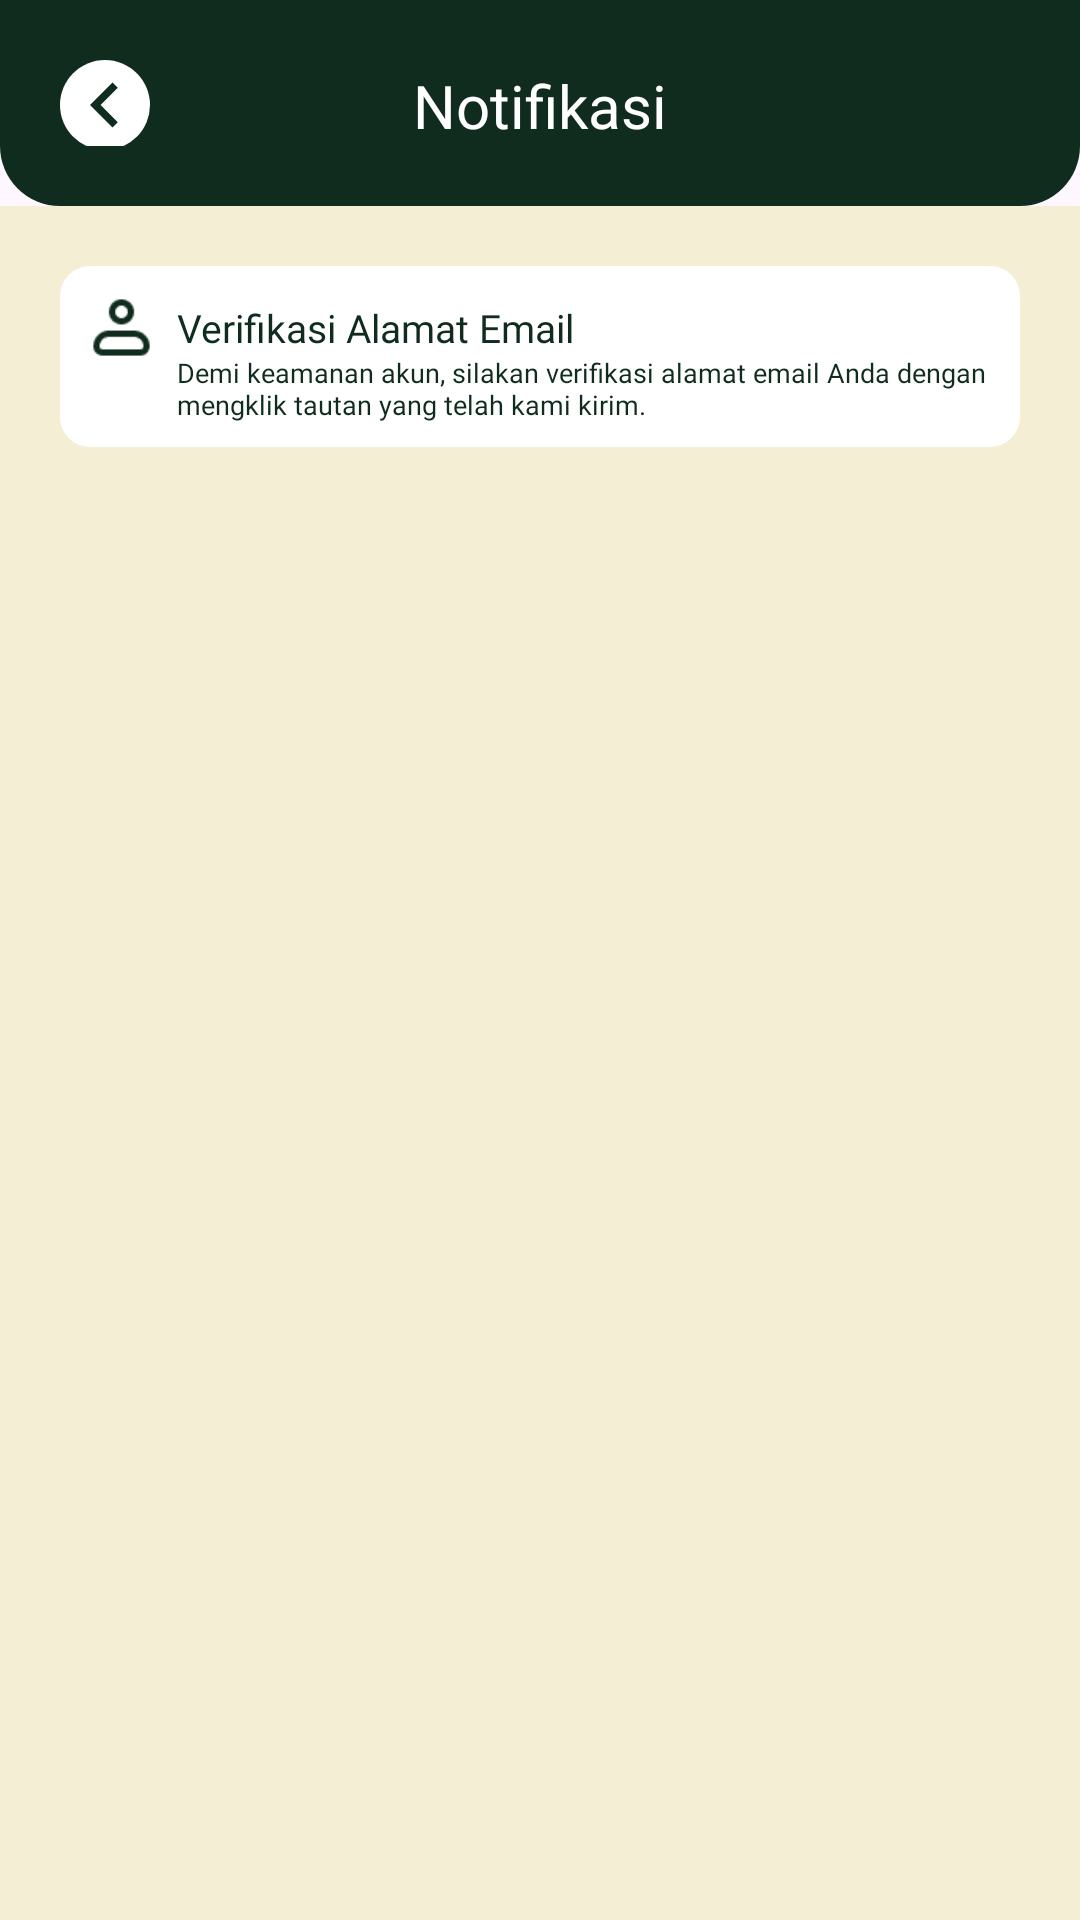

Screen size 1080px x 1920px. Icon name, then its center in pixels as (x,y):
chevron left: (105,103)
profile: (121,327)
